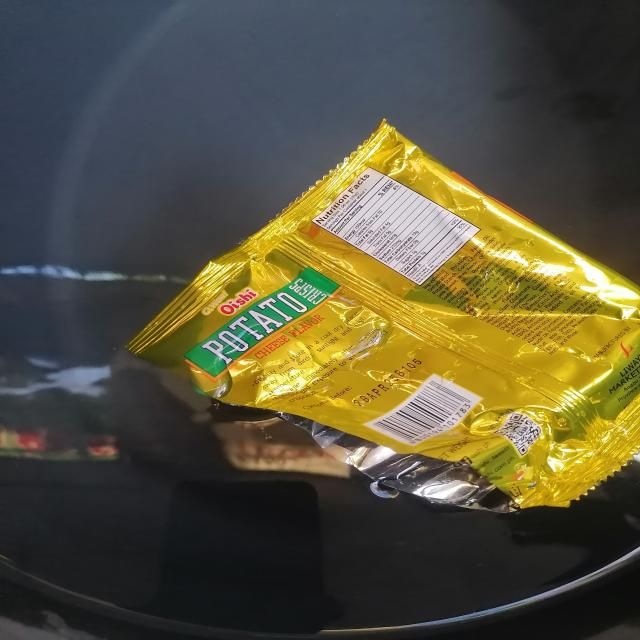Plastic Wrapper: (127, 121, 640, 512)
